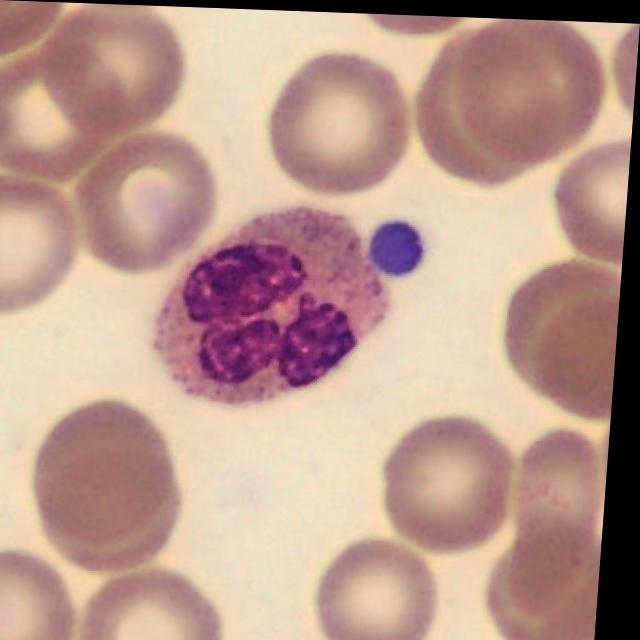Neutrofilo segmentado: (161, 209, 389, 401)
